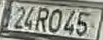2: (12, 5, 26, 29)
4: (61, 8, 75, 35), (22, 6, 34, 30)
5: (74, 10, 92, 37)
O: (47, 7, 63, 33)
R: (33, 6, 49, 32)
